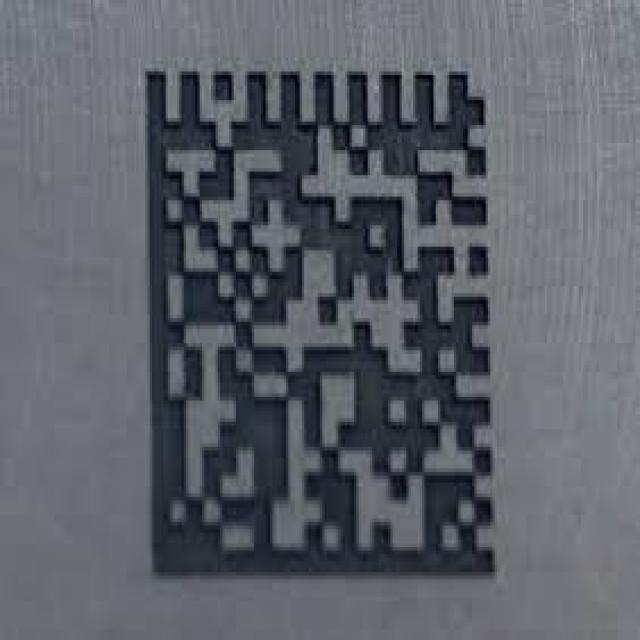datamatrix: (125, 43, 513, 611)
